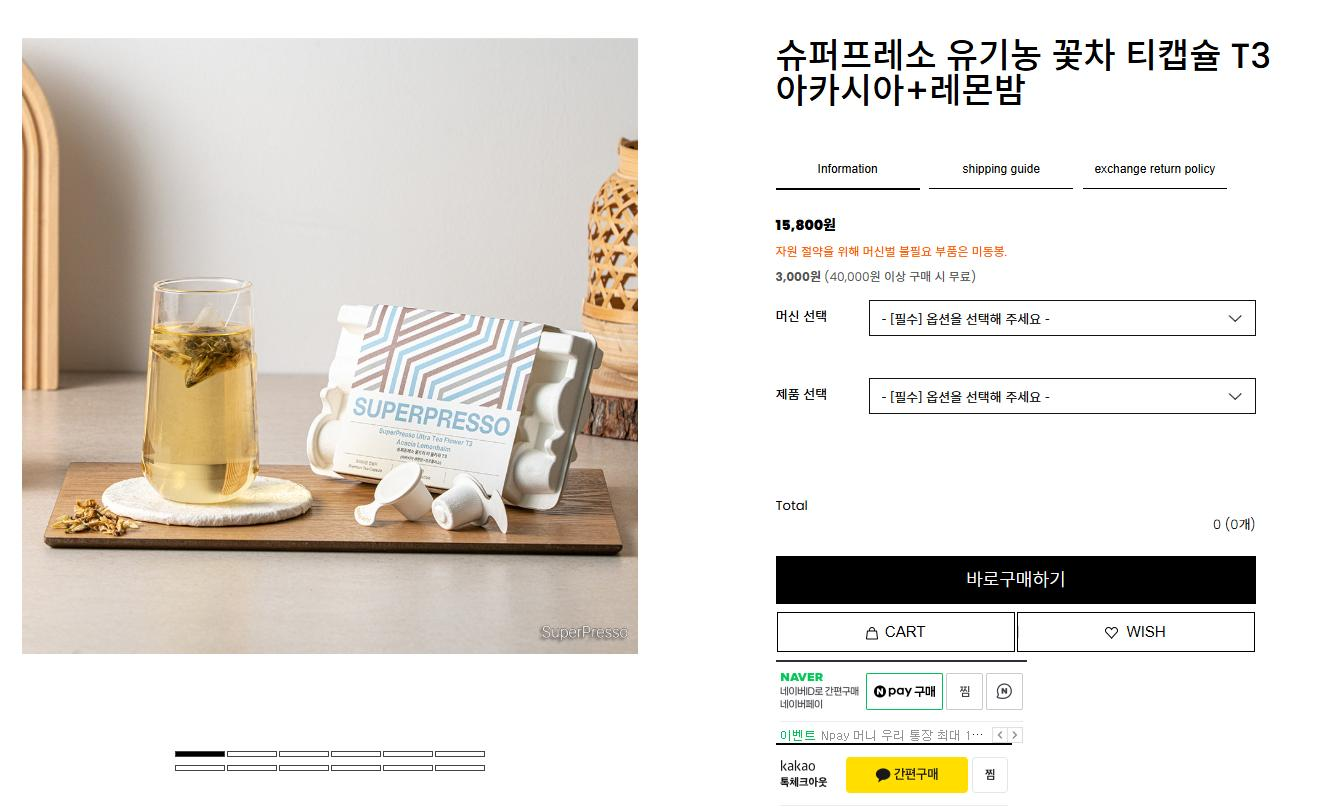button: (776, 554, 1257, 603), (776, 613, 1014, 653), (1016, 613, 1255, 652), (772, 149, 923, 190), (1085, 151, 1227, 190), (845, 755, 968, 795), (934, 151, 1068, 187), (865, 674, 942, 709), (984, 674, 1022, 711), (947, 674, 984, 708), (972, 761, 1008, 793), (1009, 724, 1023, 745), (993, 729, 1004, 745)
checkbox: (868, 299, 1259, 337), (867, 378, 1259, 414)
